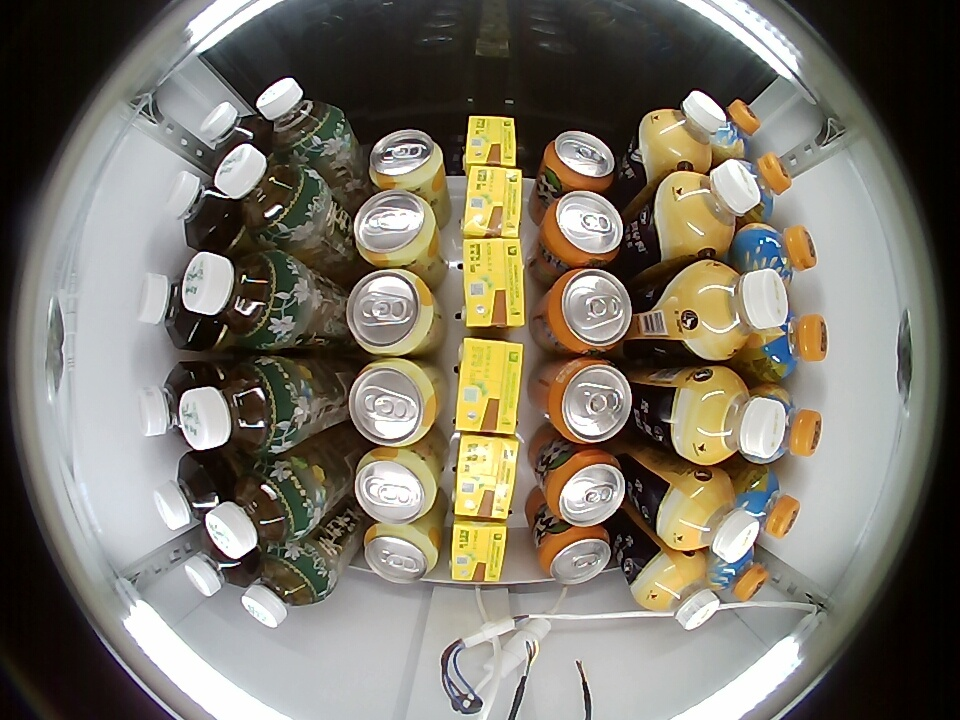asamu: (688, 371, 792, 464), (692, 263, 789, 358), (668, 159, 766, 250), (668, 470, 762, 562), (645, 90, 731, 168), (644, 559, 721, 631)
fenda: (549, 357, 633, 444), (549, 268, 633, 354), (547, 450, 627, 526), (545, 191, 625, 266), (543, 130, 616, 190), (539, 527, 613, 585)
guolicheng: (752, 382, 823, 465), (752, 313, 828, 381), (736, 223, 818, 286), (733, 465, 800, 537), (737, 152, 792, 223), (708, 543, 768, 602), (710, 98, 761, 163)
mangguoxiaolao: (348, 358, 439, 447), (346, 269, 436, 357), (353, 190, 437, 267), (354, 448, 438, 525), (368, 129, 444, 190), (363, 524, 439, 584)
moliqingcha: (183, 249, 301, 350), (179, 355, 297, 454), (215, 144, 322, 243), (206, 460, 311, 558), (255, 77, 348, 160), (240, 544, 331, 628)
weitaningmeng: (453, 338, 524, 434), (451, 433, 520, 520), (462, 238, 526, 327), (463, 165, 523, 237), (450, 518, 508, 584), (465, 115, 518, 167)
wulongcha: (136, 266, 207, 348), (153, 454, 225, 530), (165, 171, 231, 246), (136, 364, 201, 440), (198, 101, 268, 164), (183, 533, 250, 596)
